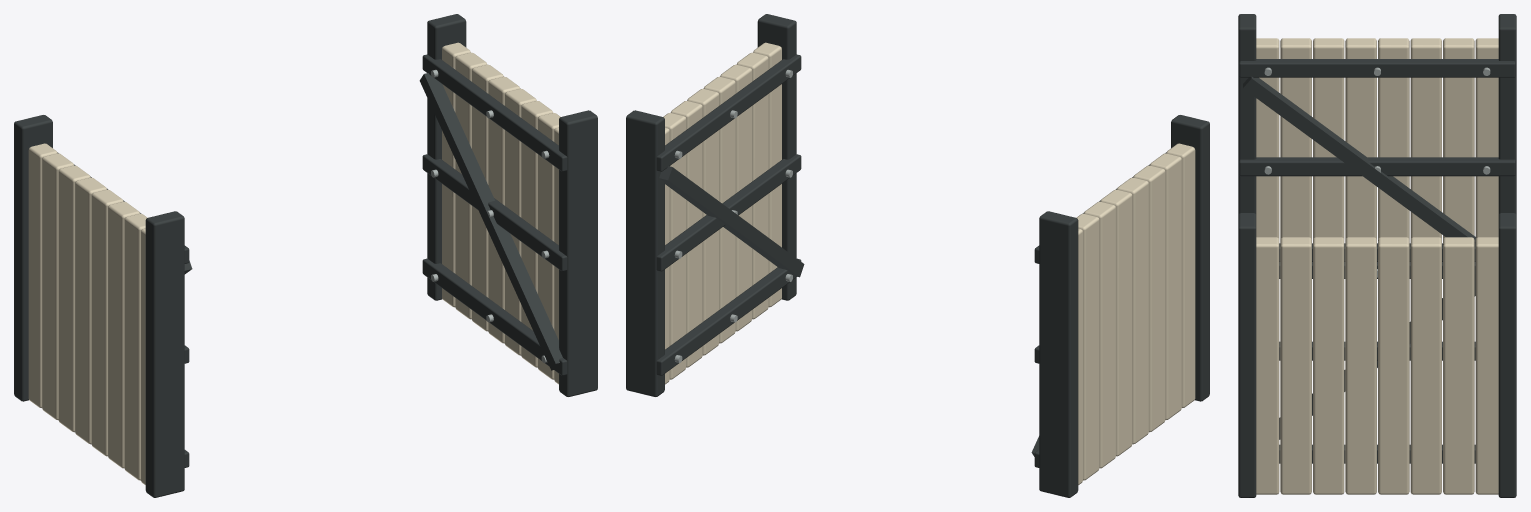
File: canal-boats-and-lock-operations-canal-boats-and-lock-o-0423c01b__31622.glb
3 views of the same model, side by side, from view 1: azimuth 30°, elevation 25°; view 2: azimuth 150°, elevation 25°; view 3: azimuth 270°, elevation 25° (orthographic).
Parts seen in each view (by area): view 1: canal-boats-and-lock-operations-lower-mitre-gate-pair; view 2: canal-boats-and-lock-operations-lower-mitre-gate-pair; view 3: canal-boats-and-lock-operations-lower-mitre-gate-pair.
Part boxes in pixels (x1,y1,x2,y2): canal-boats-and-lock-operations-lower-mitre-gate-pair: (14, 14, 597, 497); canal-boats-and-lock-operations-lower-mitre-gate-pair: (626, 14, 1209, 497); canal-boats-and-lock-operations-lower-mitre-gate-pair: (1238, 14, 1516, 497).
Bounding box in the file's own units: 3.08 × 1.82 × 1.69.
